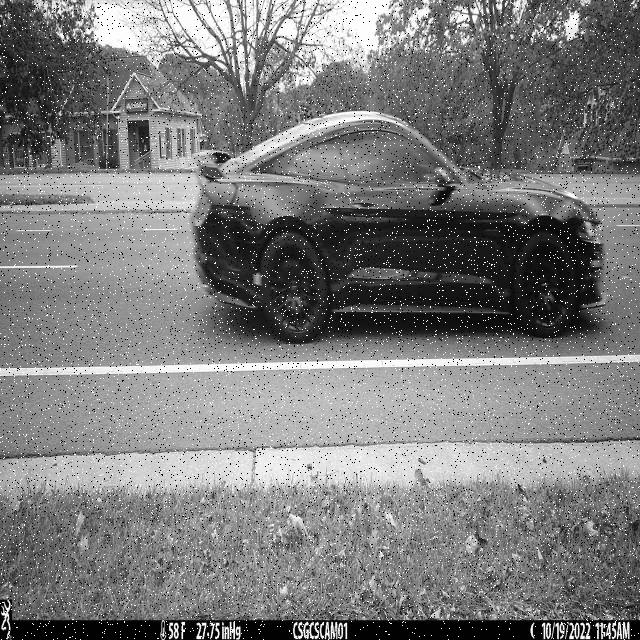Sedan: (191, 111, 605, 344)
